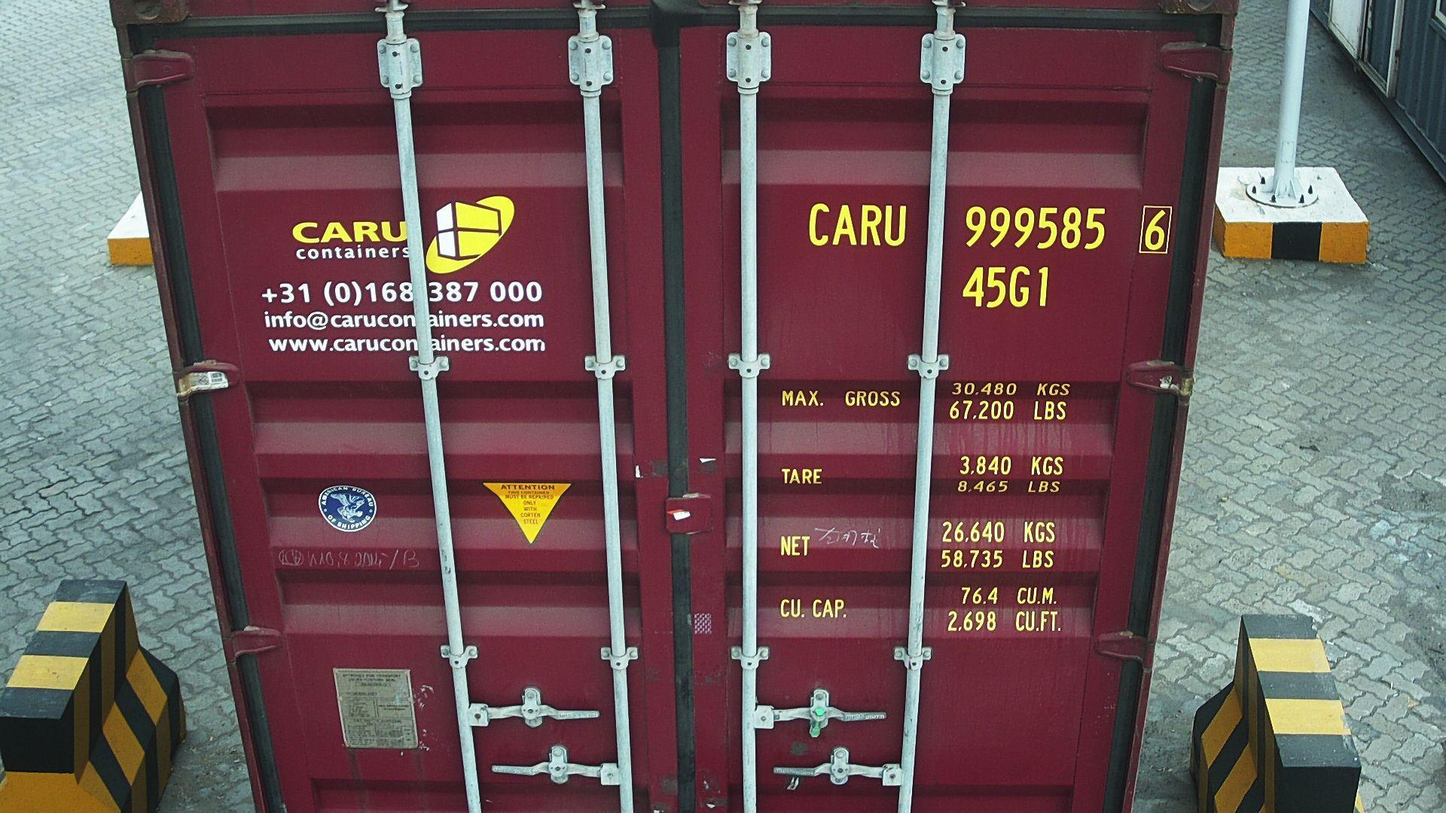container-numbers: (802, 198, 1174, 257), (956, 263, 1056, 312)
